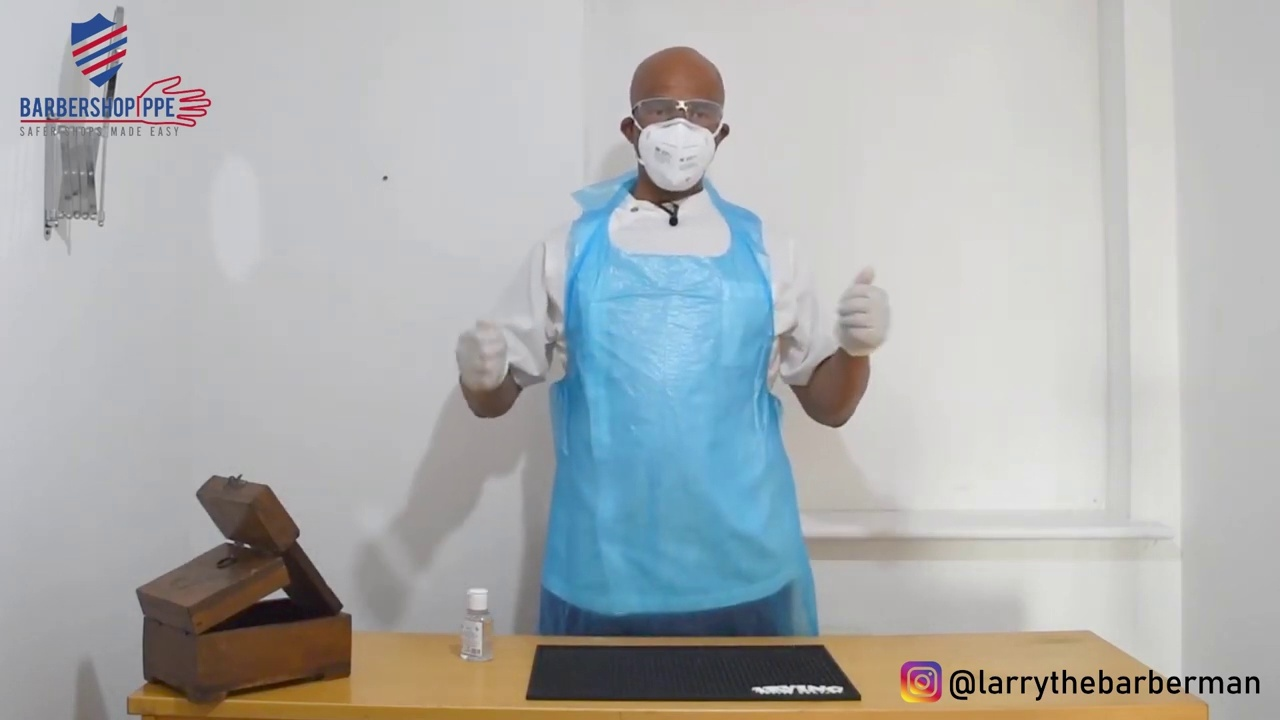Apron: (521, 165, 828, 649)
Glove: (799, 261, 918, 386), (441, 290, 548, 408)
Mask: (608, 112, 748, 204)
No_Hairnet: (614, 36, 728, 125)
